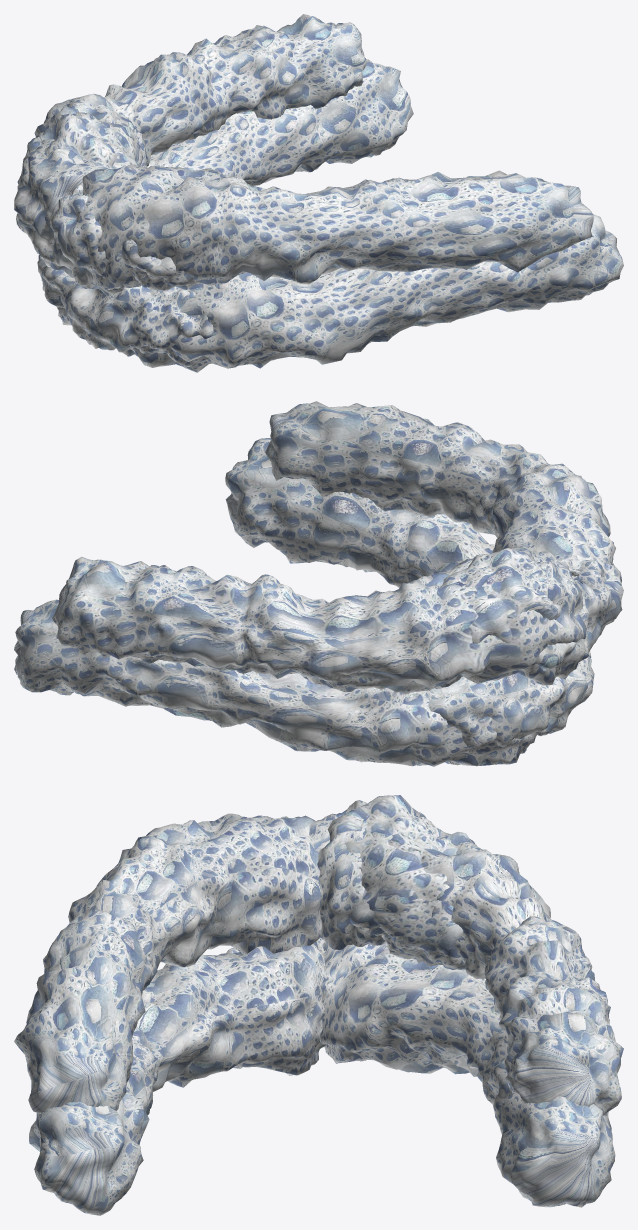
The model's file is foam.glb.
3 views of the same model, one above another, from view 1: azimuth 30°, elevation 25°; view 2: azimuth 150°, elevation 25°; view 3: azimuth 270°, elevation 25° (orthographic). The views are drawn at different scales.
Visible parts, largest first — view 1: Foam_upper_left, Foam_Lower_left, foam_upper_right, Foam_Front, Foam_lower_right_; view 2: foam_upper_right, Foam_upper_left, Foam_lower_right_, Foam_Front, Foam_Lower_left; view 3: Foam_upper_left, foam_upper_right, Foam_Lower_left, Foam_lower_right_, Foam_Front.
Part boxes in pixels (x1,y1,x2,y2): Foam_upper_left: (76, 164, 593, 290); Foam_Lower_left: (131, 213, 623, 372); foam_upper_right: (14, 14, 366, 257); Foam_Front: (16, 112, 213, 366); Foam_lower_right_: (57, 59, 413, 325); foam_upper_right: (52, 551, 586, 694); Foam_upper_left: (265, 401, 615, 635); Foam_lower_right_: (14, 599, 552, 766); Foam_Front: (412, 546, 623, 752); Foam_Lower_left: (225, 438, 494, 588); Foam_upper_left: (14, 813, 322, 1113); foam_upper_right: (309, 800, 623, 1115); Foam_Lower_left: (29, 944, 328, 1215); Foam_lower_right_: (320, 942, 615, 1207); Foam_Front: (219, 795, 465, 970).
Size of the model in its own units: 0.0828 by 0.0369 by 0.0813.
1 material, 1 textured.
